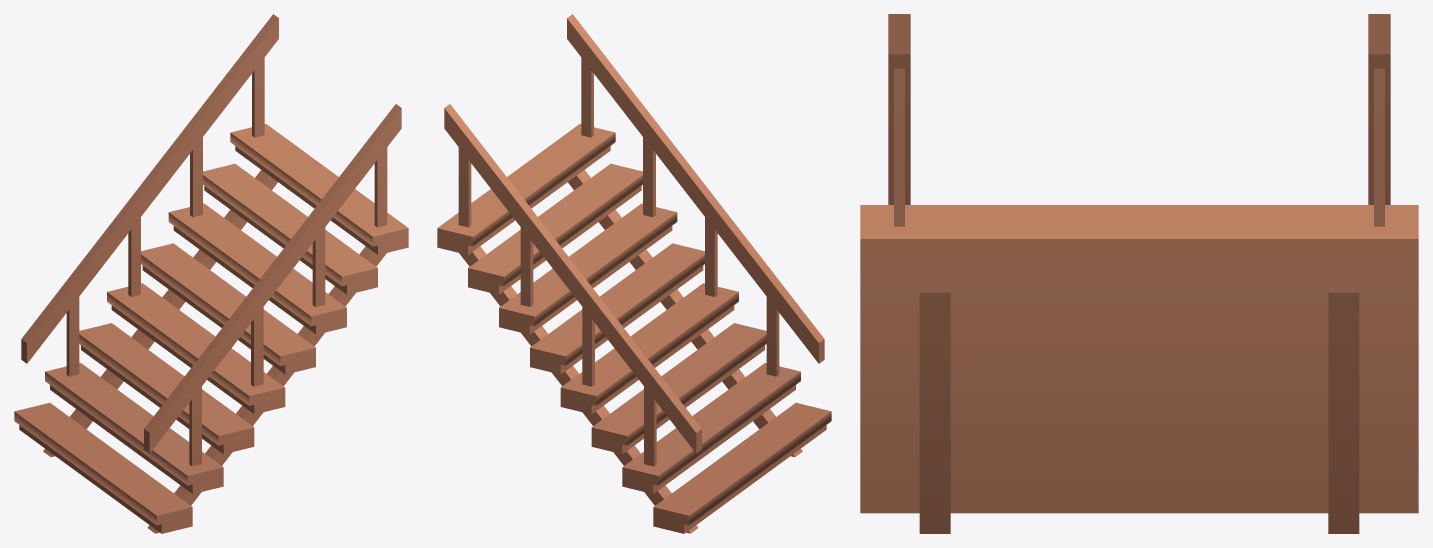
Rendered from stairs-wide-wood-handrail.glb.
The picture shows the model from 3 angles, left to right: view 1: azimuth 30°, elevation 25°; view 2: azimuth 150°, elevation 25°; view 3: azimuth 270°, elevation 25°; orthographic projection. The views are drawn at different scales.
Parts seen in each view (by area): view 1: stairs-wide-wood-handrail; view 2: stairs-wide-wood-handrail; view 3: stairs-wide-wood-handrail.
Part boxes in pixels (box(x1,y1,x2,y2)): stairs-wide-wood-handrail: box(14, 14, 408, 533); stairs-wide-wood-handrail: box(437, 14, 831, 533); stairs-wide-wood-handrail: box(860, 14, 1418, 533).
Bounding box in the file's own units: 1.02 × 1.45 × 1.
1 material, 1 textured.
